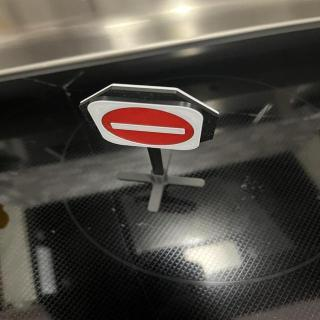sign_noentry: (88, 98, 209, 153)
